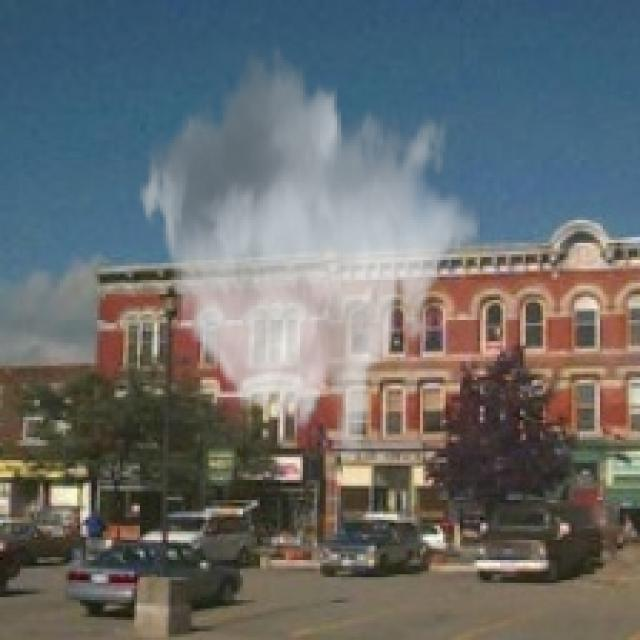Smoke: (137, 40, 483, 460)
